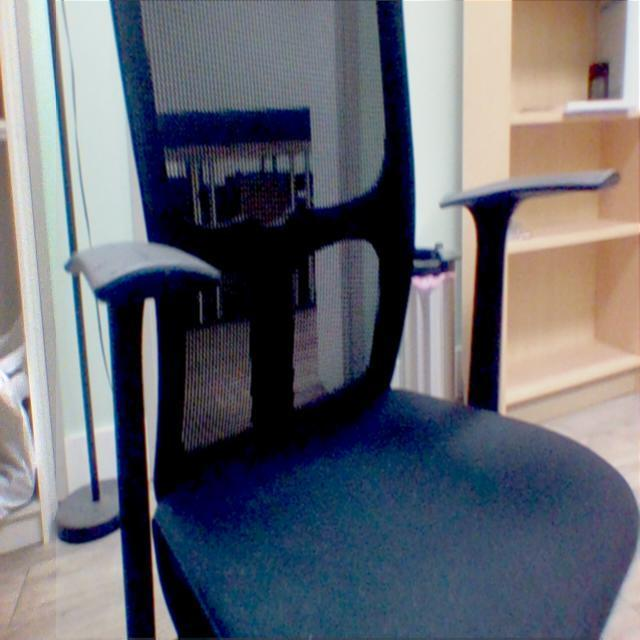chair: (56, 1, 640, 639)
